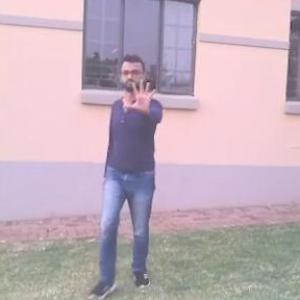follow_hand: (120, 71, 162, 117)
